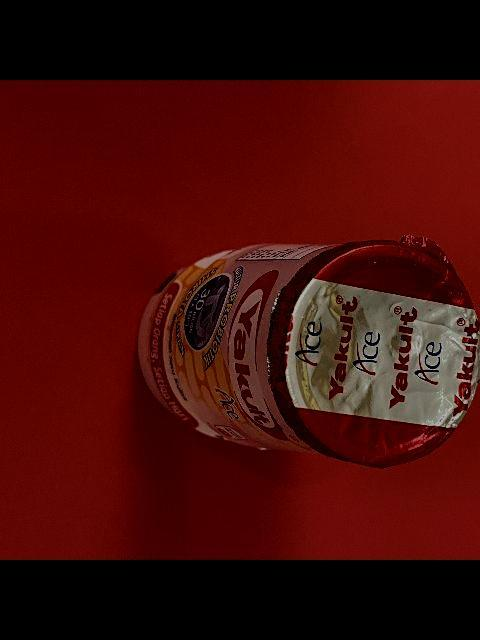plasticbottle: (131, 233, 480, 469)
